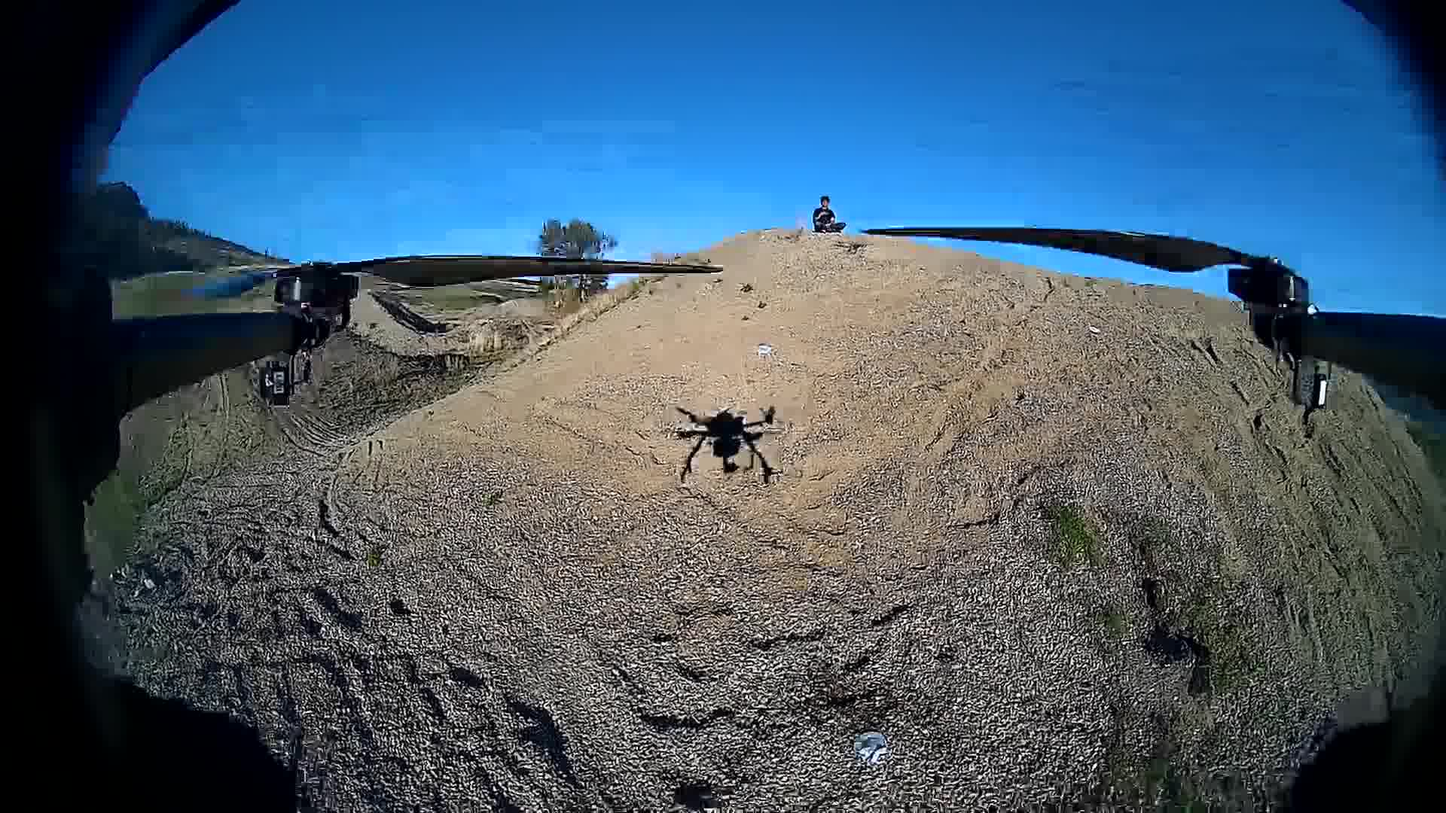Target: (854, 730, 887, 761)
